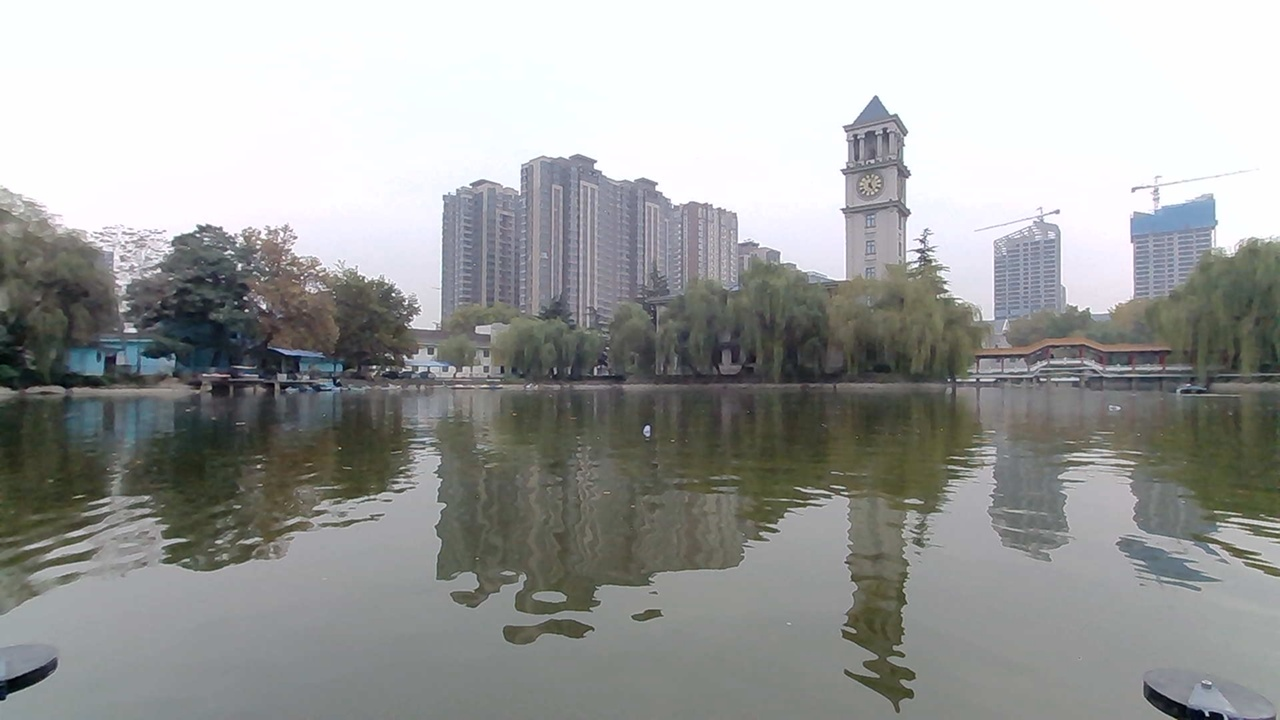bottle: (621, 411, 673, 443), (1092, 391, 1124, 410)
